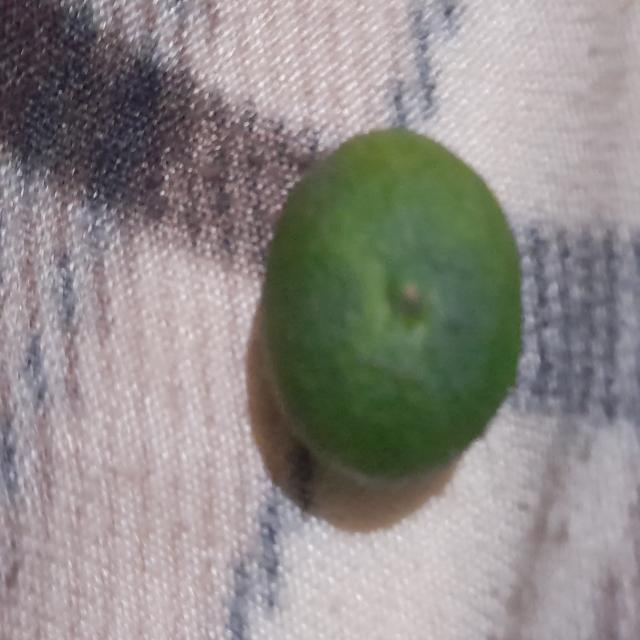heathy: (250, 116, 538, 498)
